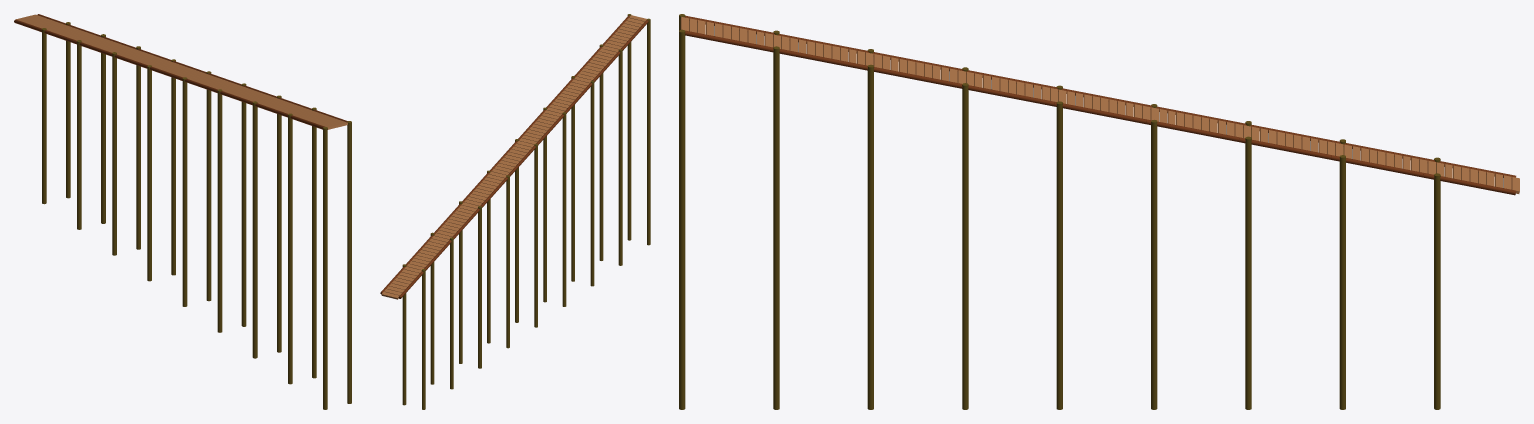
The model's file is AngledBridge.fbx.
3 renders of one model, left to right at view 1: azimuth 30°, elevation 25°; view 2: azimuth 150°, elevation 25°; view 3: azimuth 270°, elevation 25°, orthographic. The views are drawn at different scales.
Visible parts, largest first — view 1: Cube.001, Cube.002; view 2: Cube.001, Cube.002; view 3: Cube.001, Cube.002.
Part boxes in pixels (box(x1,y1,x2,y2)): Cube.001: box(42, 22, 351, 409); Cube.002: box(14, 14, 347, 129); Cube.001: box(402, 14, 650, 409); Cube.002: box(380, 15, 648, 299); Cube.001: box(679, 14, 1440, 409); Cube.002: box(680, 15, 1519, 195).
Size of the model in its own units: 280 by 2676 by 5400.
